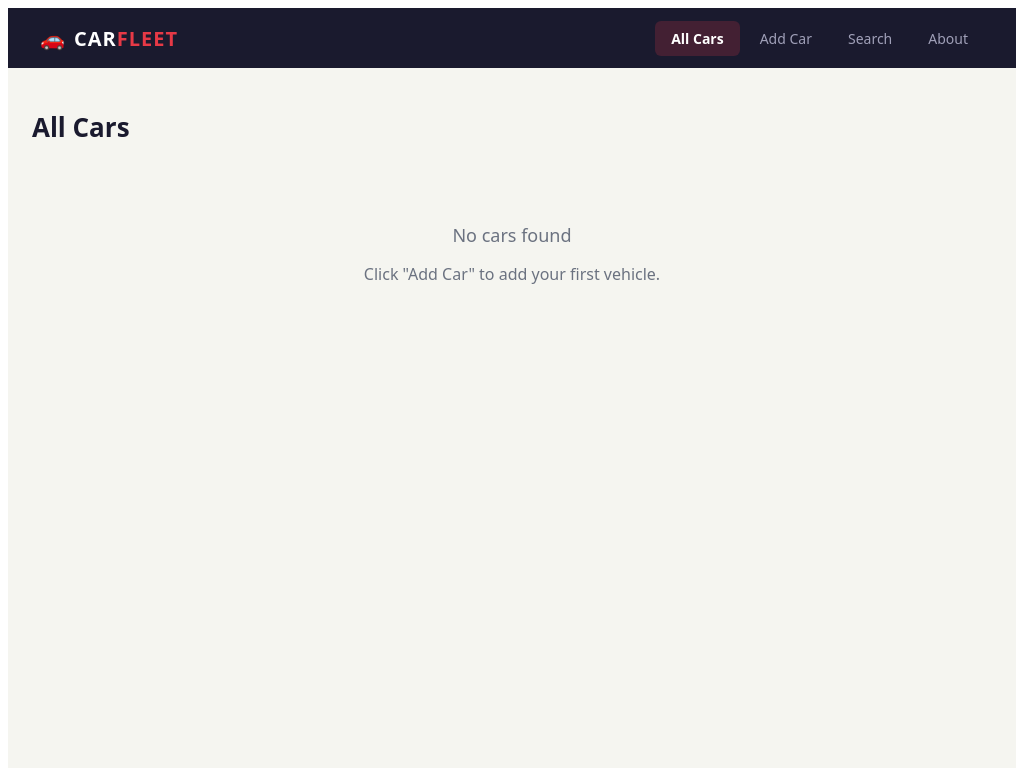
Test: Add Car › shows error when required fields are empty
This screenshot has width=1024, height=768.
Click the button "Add Car".
click(786, 38)  # box [744,20,828,56]
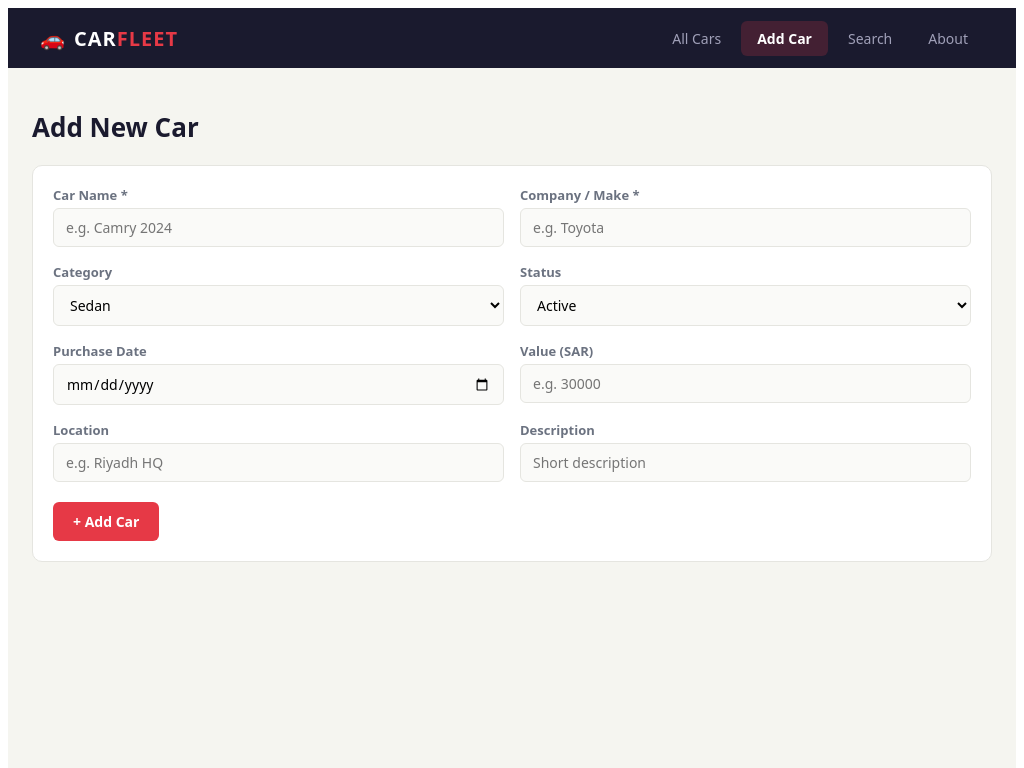
Click the button "+ Add Car".
click(106, 522)  # box [53,502,159,541]
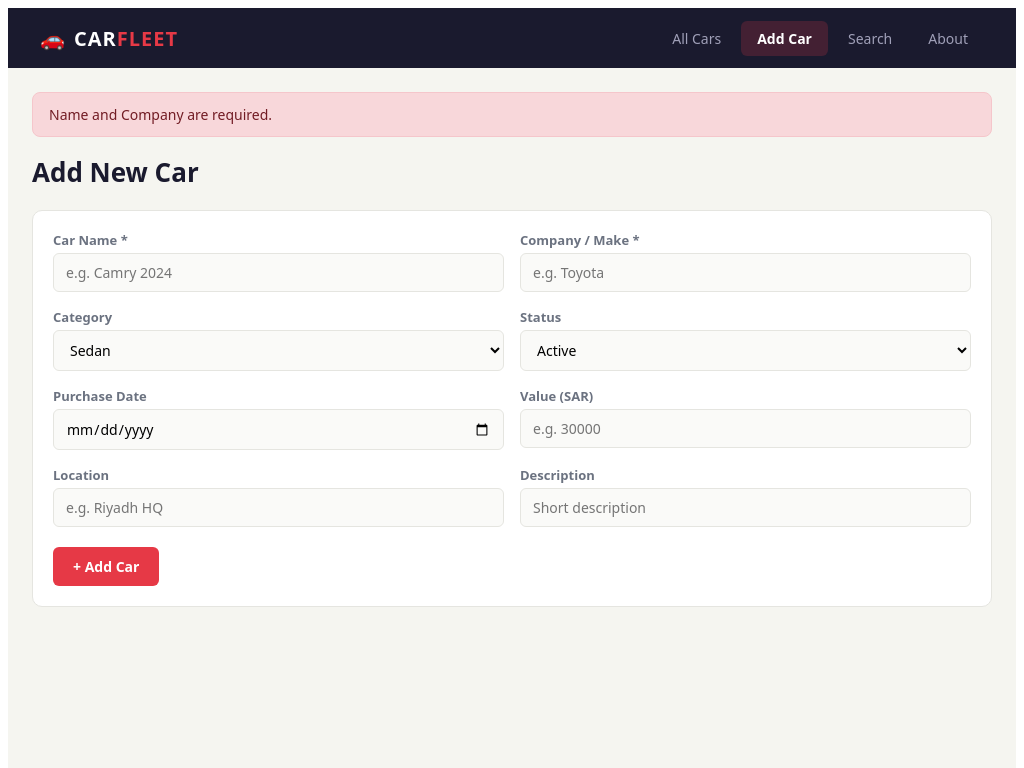
Now the text "Name and Company are required." is shown, box [32,92,992,137]
